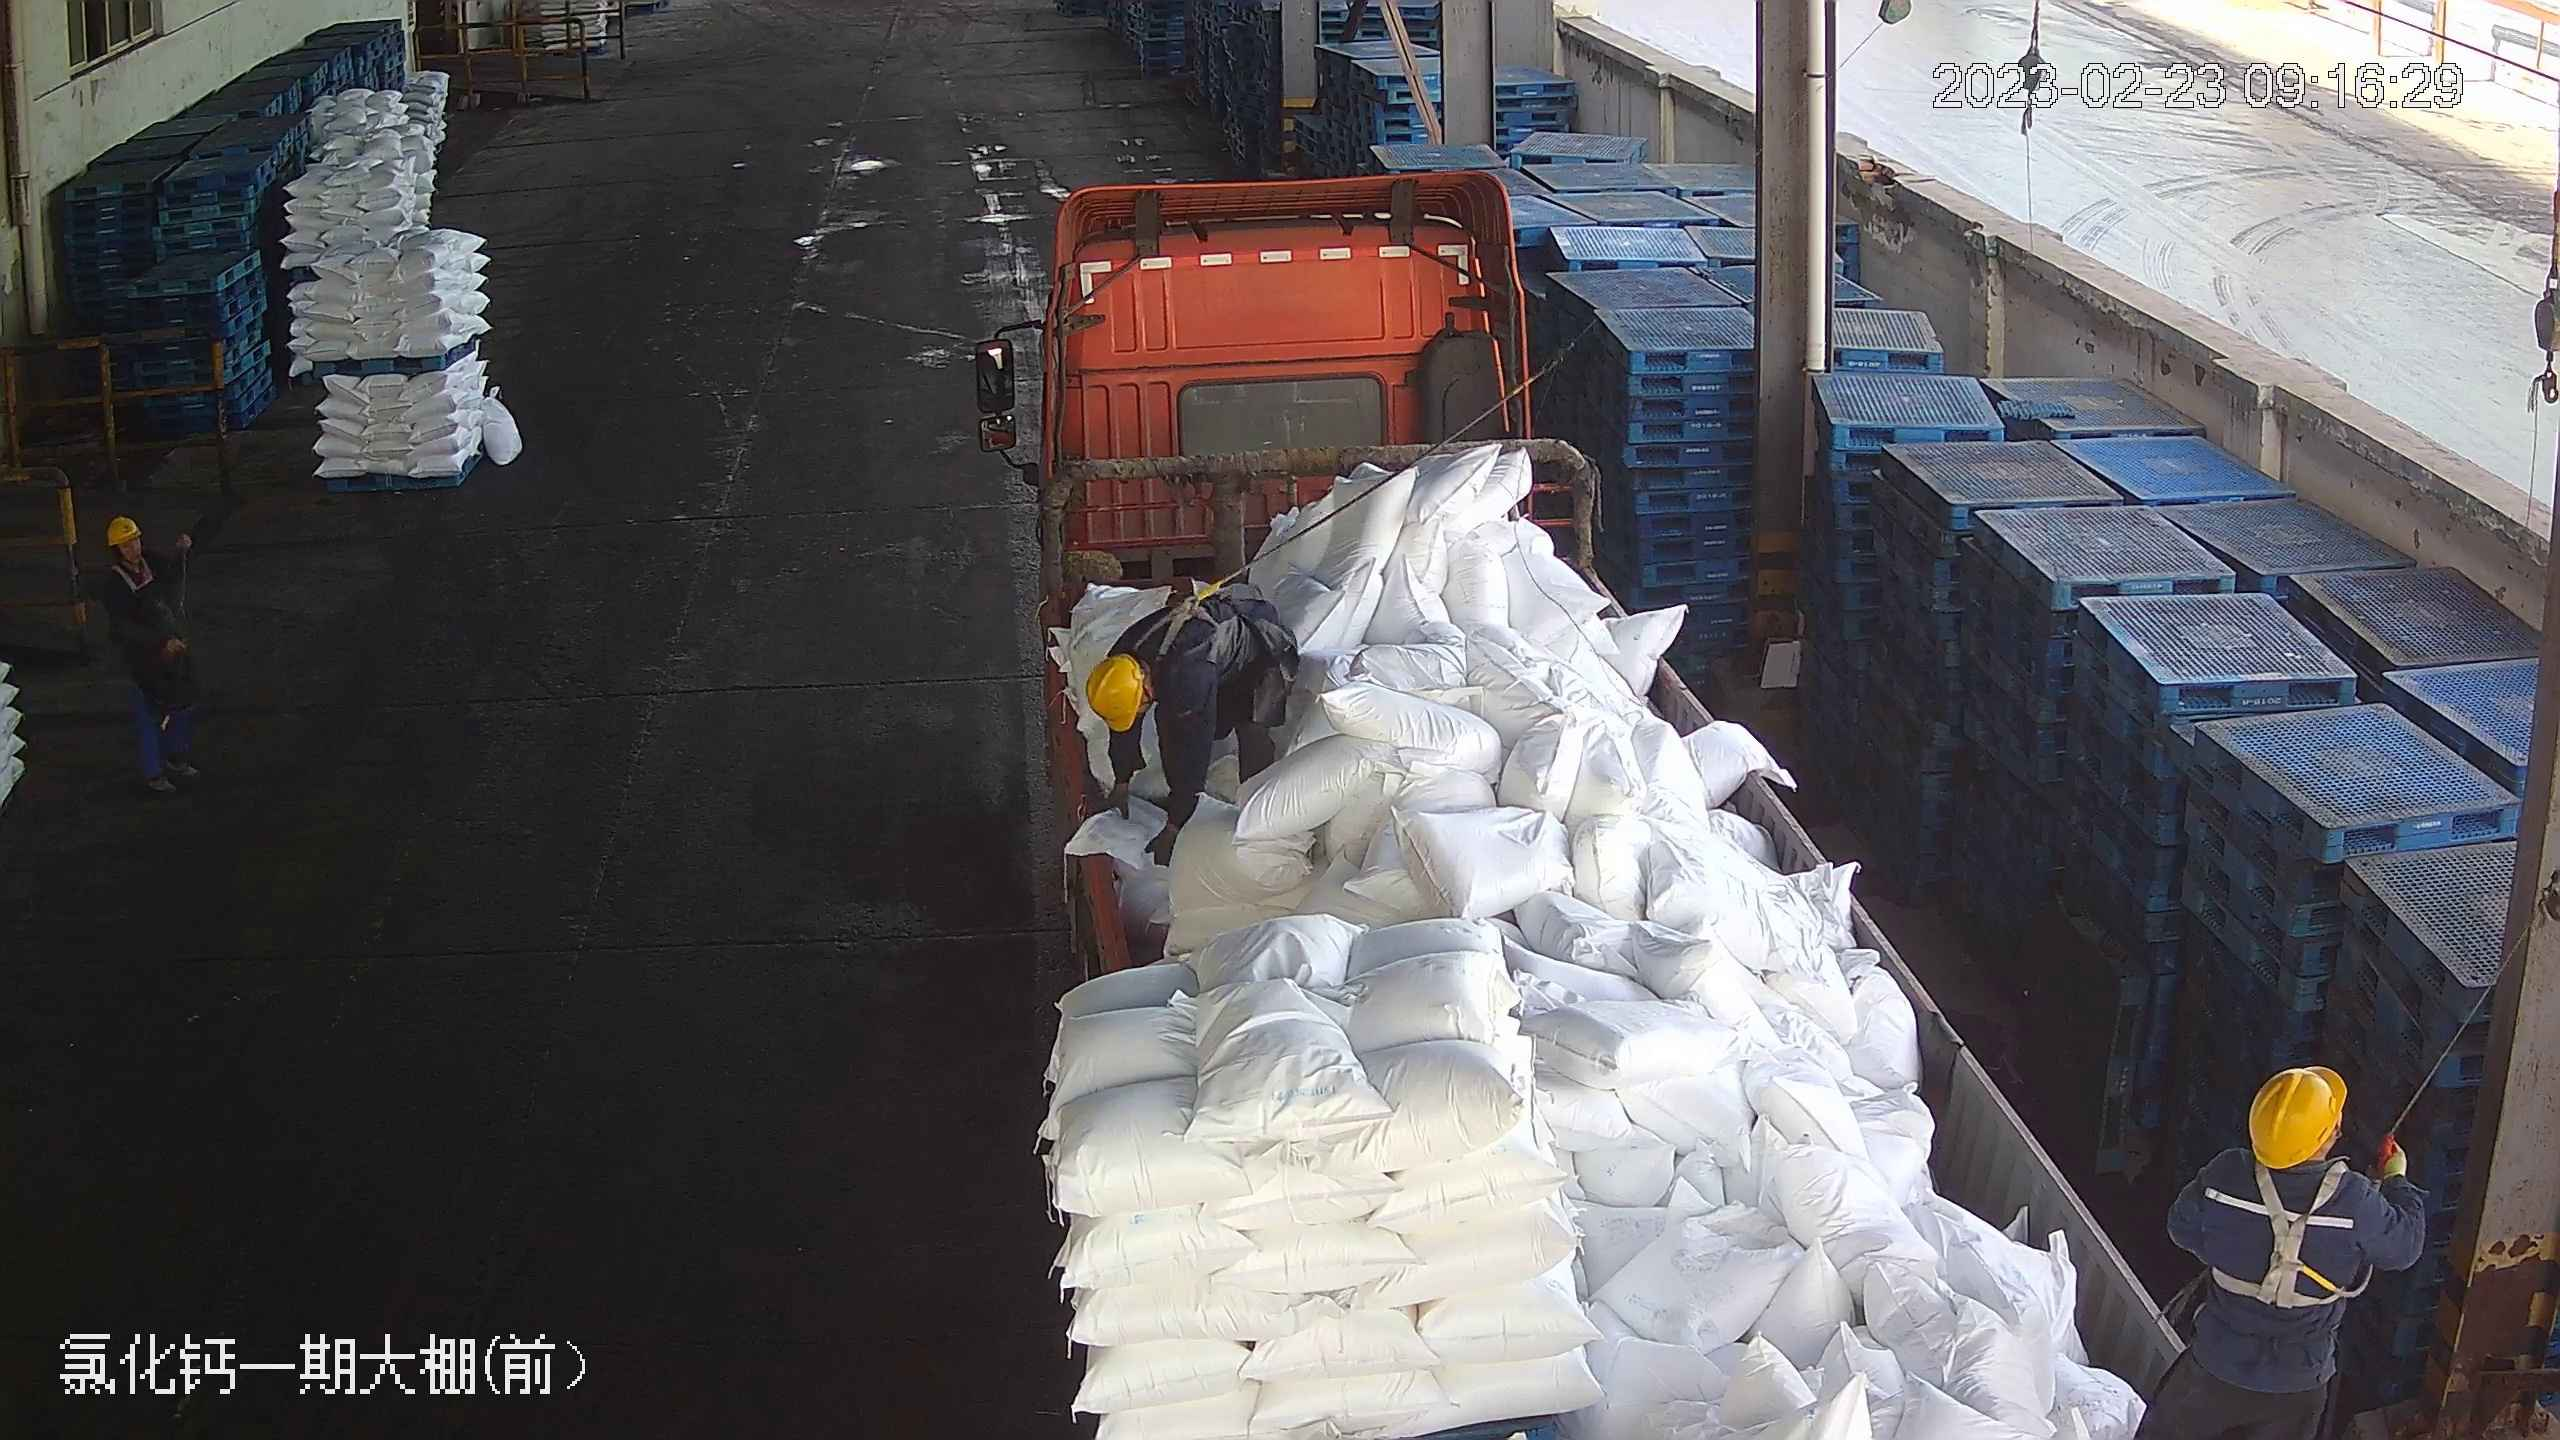belt: (2198, 1153, 2376, 1321), (1132, 567, 1230, 664), (116, 552, 163, 597)
head: (2173, 1067, 2408, 1270), (1070, 582, 1252, 744), (93, 515, 177, 612)
helmet: (2246, 1063, 2346, 1168), (1082, 650, 1147, 733), (102, 513, 143, 546)
people: (2117, 1057, 2423, 1439), (1076, 580, 1312, 863), (93, 510, 210, 793)
truck: (982, 170, 2260, 1431)
